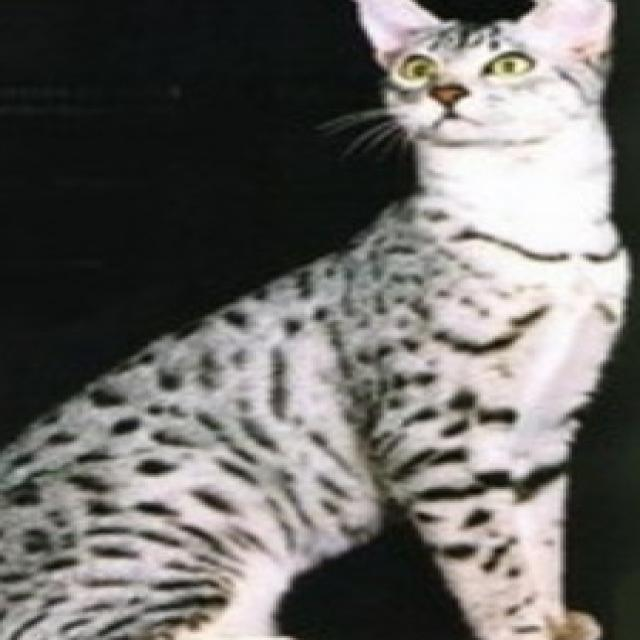Egyptian Mau: (0, 0, 631, 640)
